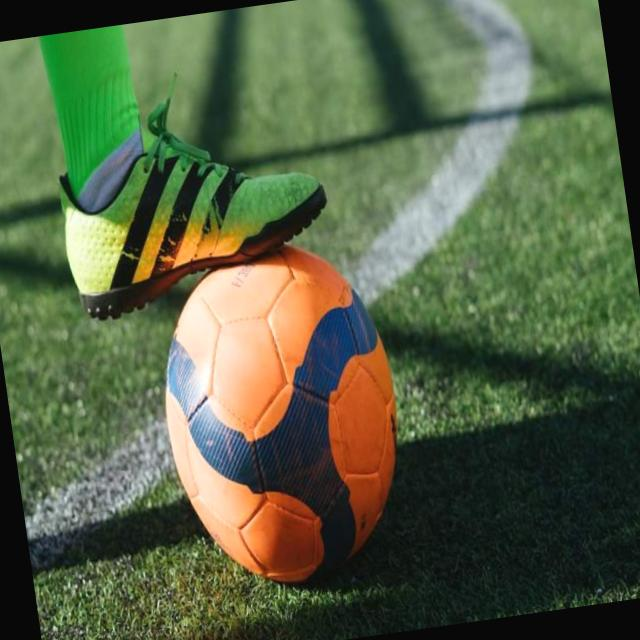Soccer Ball: (144, 226, 420, 597)
